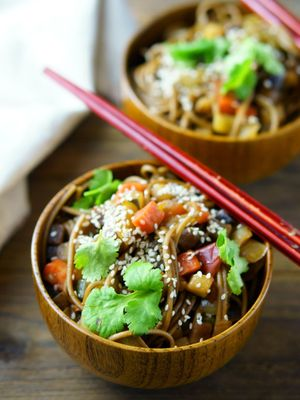curry: (80, 258, 165, 339), (68, 169, 122, 213), (74, 238, 120, 282)
salad: (41, 65, 300, 284)
sushi: (21, 75, 299, 396), (31, 147, 283, 391), (117, 0, 300, 186)
